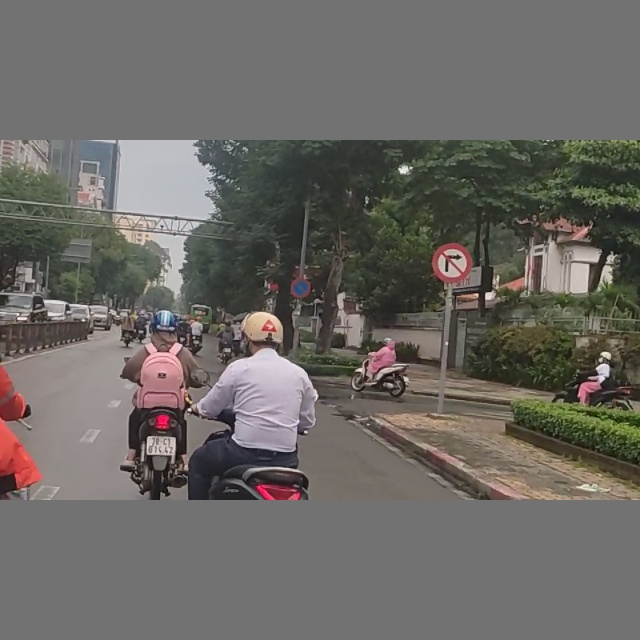P.123b: (432, 243, 473, 285)
P.131a: (291, 277, 312, 298)
